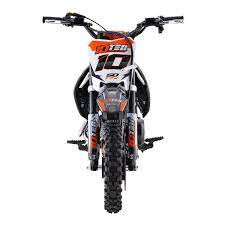bike: (42, 11, 185, 215)
